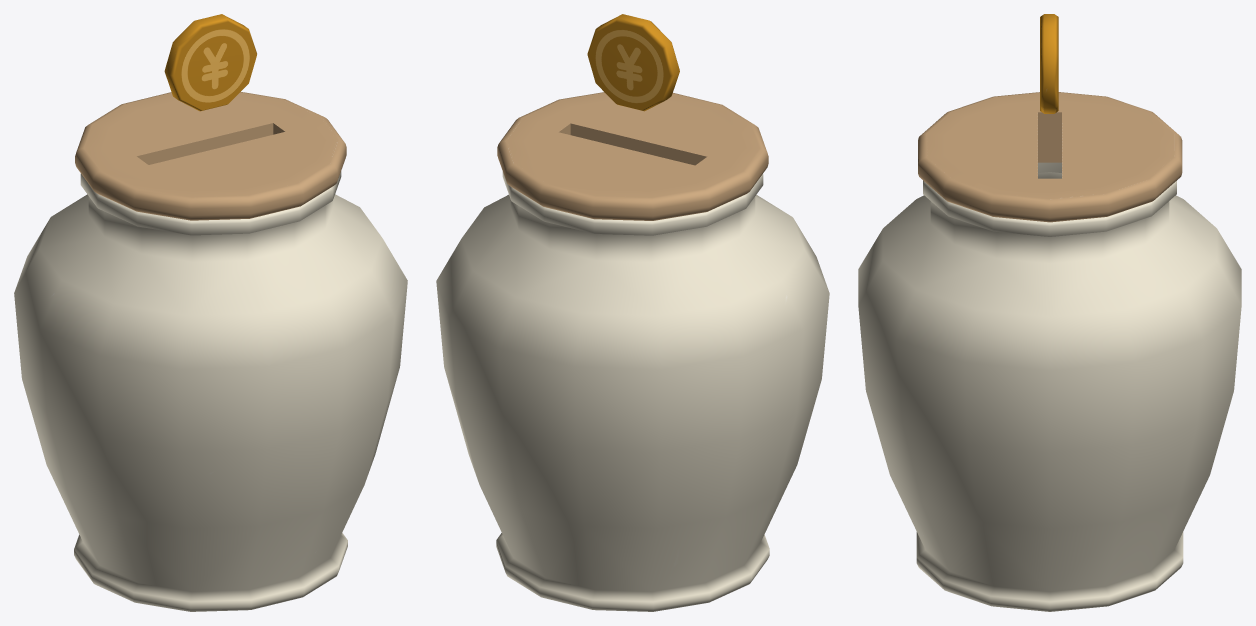
Rendered from TipsJar.obj.
The picture shows the model from 3 angles, left to right: view 1: azimuth 30°, elevation 25°; view 2: azimuth 150°, elevation 25°; view 3: azimuth 270°, elevation 25°; orthographic projection.
Parts seen in each view (by area): view 1: Jar_standardSurface6SG, Jar_standardSurface5SG, Jar_standardSurface4SG; view 2: Jar_standardSurface6SG, Jar_standardSurface5SG, Jar_standardSurface4SG; view 3: Jar_standardSurface6SG, Jar_standardSurface5SG, Jar_standardSurface4SG.
Part boxes in pixels (x1,y1,x2,y2): Jar_standardSurface6SG: (14,171,407,611); Jar_standardSurface5SG: (75,92,346,220); Jar_standardSurface4SG: (164,14,256,111); Jar_standardSurface6SG: (436,171,829,611); Jar_standardSurface5SG: (497,92,768,220); Jar_standardSurface4SG: (587,14,679,111); Jar_standardSurface6SG: (858,162,1241,611); Jar_standardSurface5SG: (918,92,1182,222); Jar_standardSurface4SG: (1040,14,1058,113).
Size of the model in its own units: 1.49 by 2.25 by 1.46.
3 materials, 3 textured.
